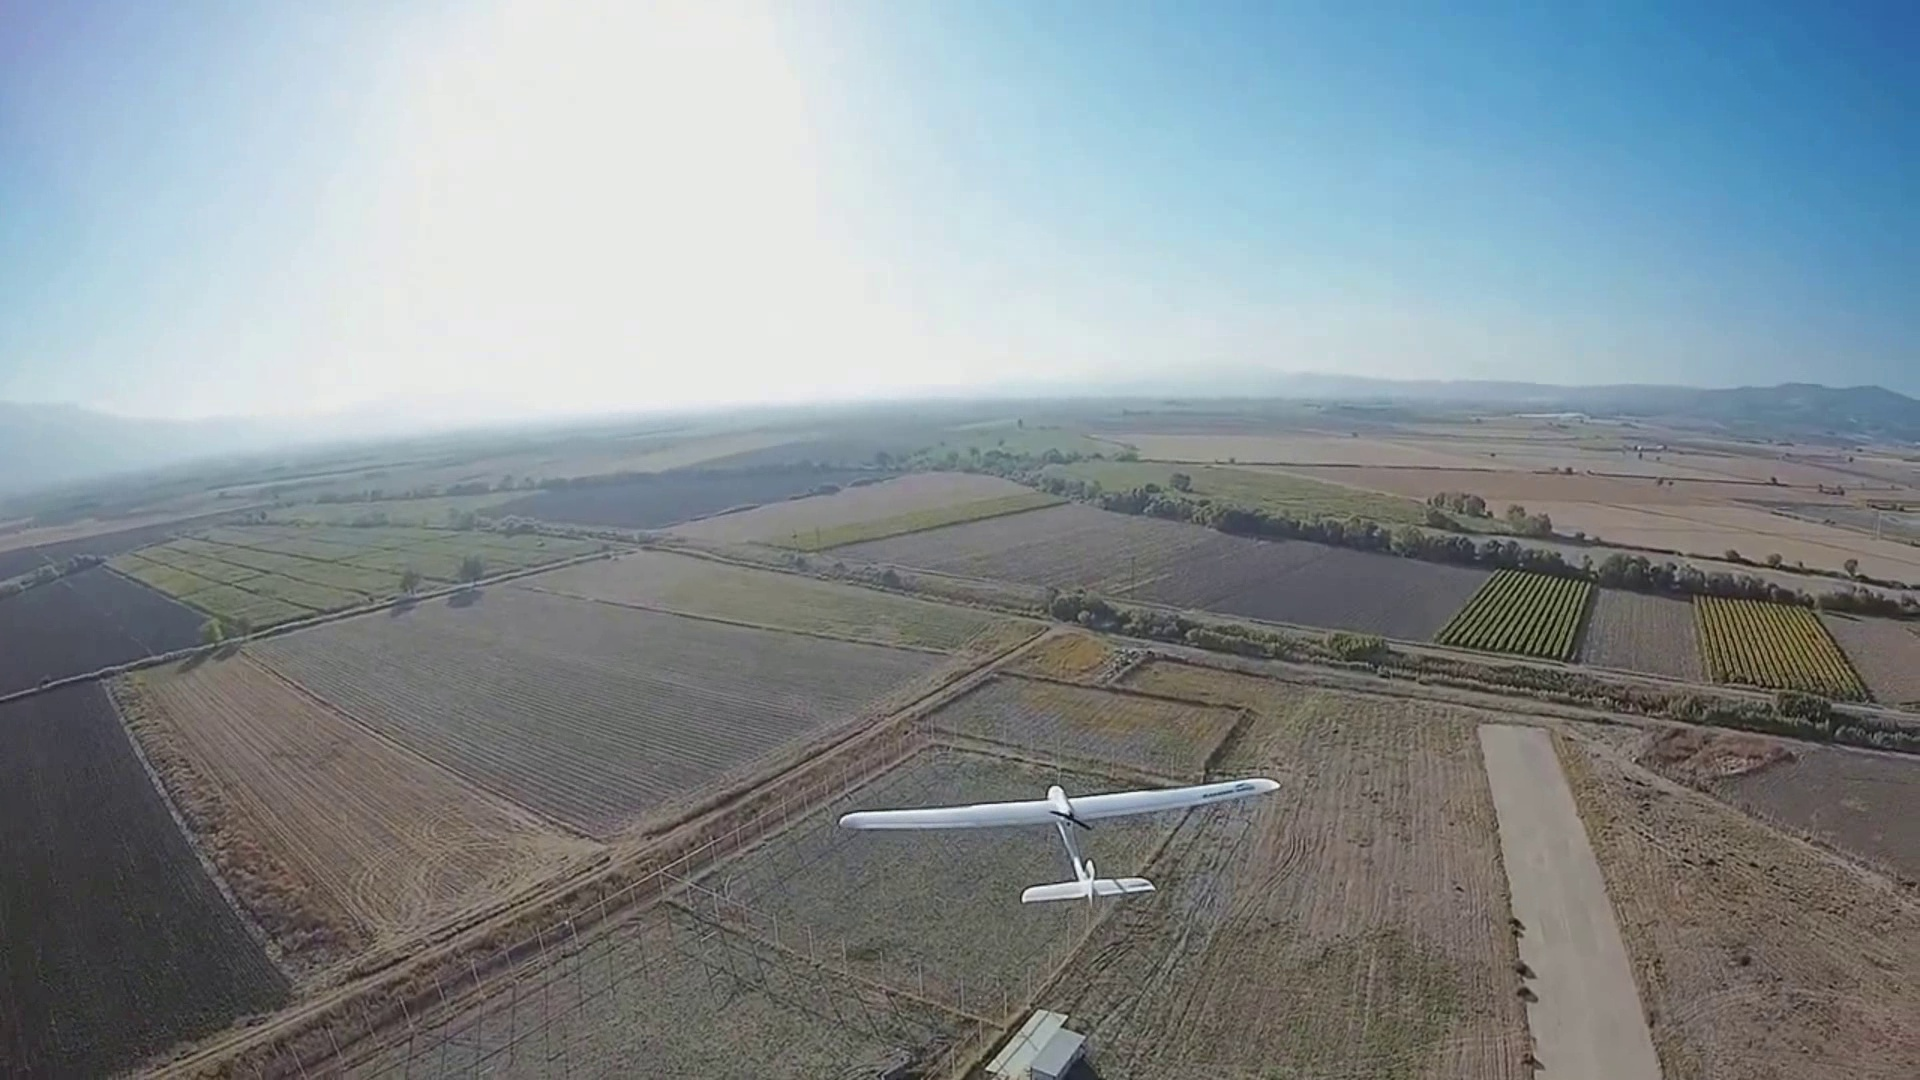airplane: (833, 771, 1279, 913)
